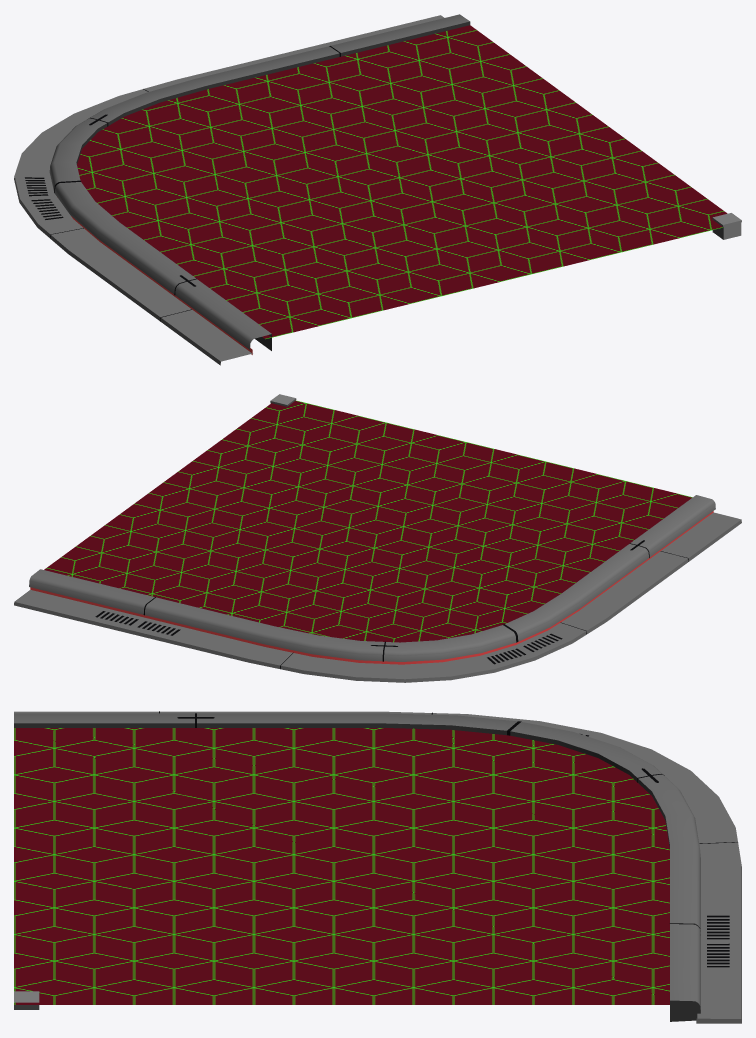
File: Floor_add_02_Conner.fbx
3 renders of one model, top to bottom at view 1: azimuth 30°, elevation 25°; view 2: azimuth 150°, elevation 25°; view 3: azimuth 270°, elevation 25°, orthographic. The views are drawn at different scales.
Visible parts, largest first — view 1: Floor_add_02_Conner; view 2: Floor_add_02_Conner; view 3: Floor_add_02_Conner.
Part boxes in pixels (bbox=[...]): Floor_add_02_Conner: bbox=[14, 14, 741, 365]; Floor_add_02_Conner: bbox=[14, 394, 741, 682]; Floor_add_02_Conner: bbox=[14, 711, 741, 1023].
Size of the model in its own units: 4.01 by 0.142 by 4.
